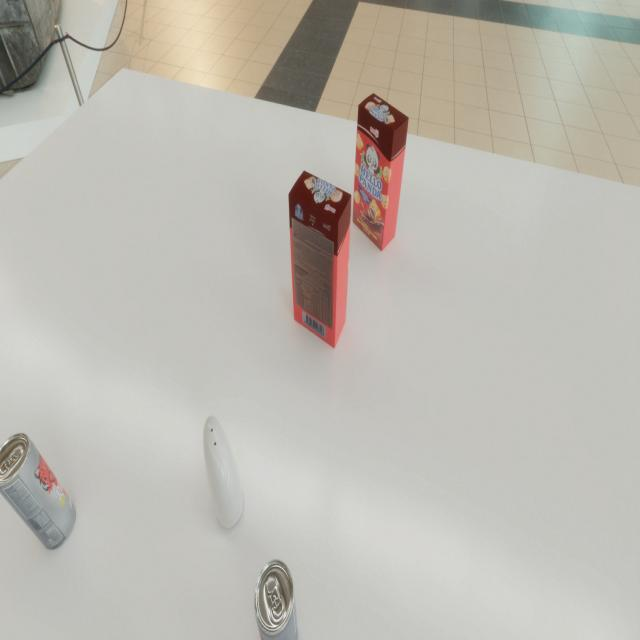HelloPanda: (288, 170, 352, 348), (352, 93, 408, 251)
Rita_zero_sugar: (0, 432, 76, 550), (254, 559, 299, 640)
Salt: (202, 416, 242, 528)
